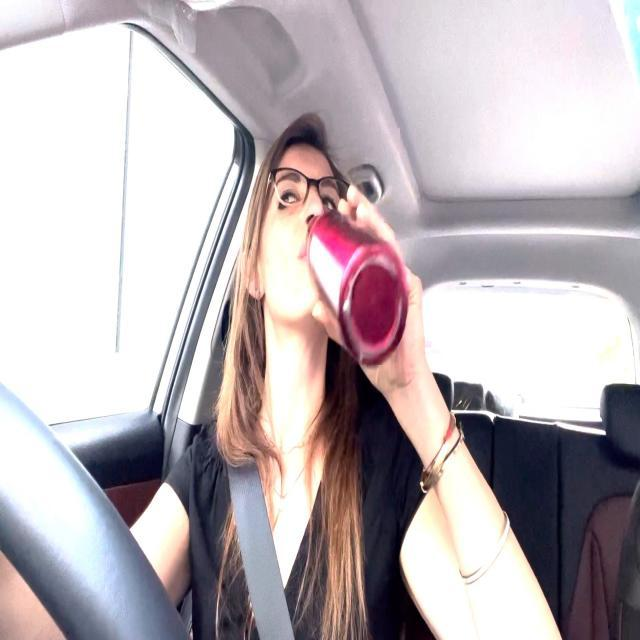Drinking: (247, 143, 406, 365)
